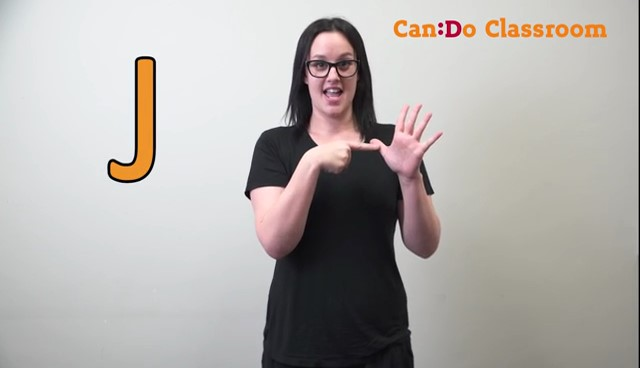J: (298, 97, 465, 192)
